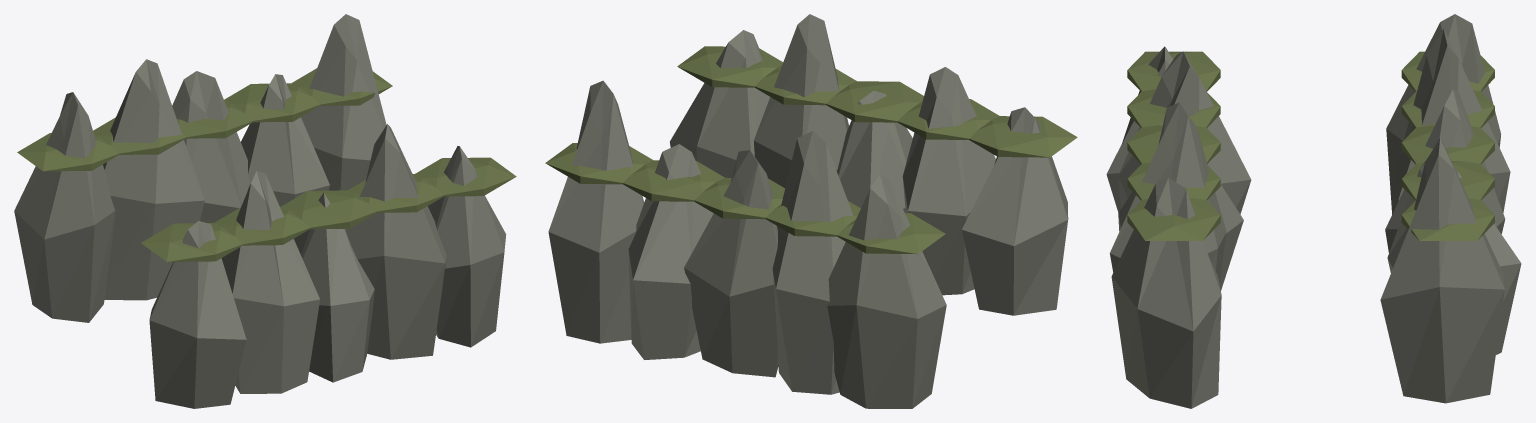
The model's file is ravine-far.glb.
The picture shows the model from 3 angles, left to right: view 1: azimuth 30°, elevation 25°; view 2: azimuth 150°, elevation 25°; view 3: azimuth 270°, elevation 25°; orthographic projection. The views are drawn at different scales.
Parts seen in each view (by area): view 1: world-scenery/ravine-far; view 2: world-scenery/ravine-far; view 3: world-scenery/ravine-far.
Part boxes in pixels (box(x1,y1,x2,y2)): world-scenery/ravine-far: box(14, 14, 516, 408); world-scenery/ravine-far: box(545, 14, 1077, 408); world-scenery/ravine-far: box(1106, 14, 1521, 408).
Bounding box in the file's own units: 6.82 × 4.07 × 6.05.
